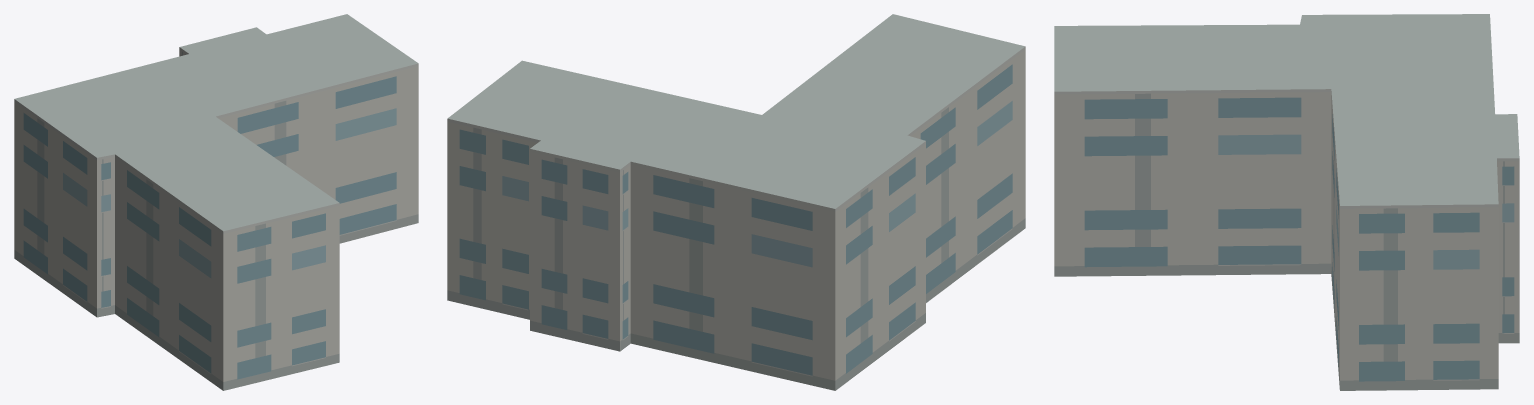
File: residential-81a91774-525d-47df-8754-ae22b9f6059a.glb
3 renders of one model, left to right at view 1: azimuth 30°, elevation 25°; view 2: azimuth 150°, elevation 25°; view 3: azimuth 270°, elevation 25°, orthographic. The views are drawn at different scales.
Parts seen in each view (by area): view 1: residential-81a91774-525d-47df-8754-ae22b9f6059a.tmp; view 2: residential-81a91774-525d-47df-8754-ae22b9f6059a.tmp; view 3: residential-81a91774-525d-47df-8754-ae22b9f6059a.tmp.
Part boxes in pixels (x1,y1,x2,y2): residential-81a91774-525d-47df-8754-ae22b9f6059a.tmp: [14, 14, 418, 390]; residential-81a91774-525d-47df-8754-ae22b9f6059a.tmp: [447, 14, 1025, 390]; residential-81a91774-525d-47df-8754-ae22b9f6059a.tmp: [1054, 14, 1519, 390].
Size of the model in its own units: 33.97 by 15.25 by 34.79.
